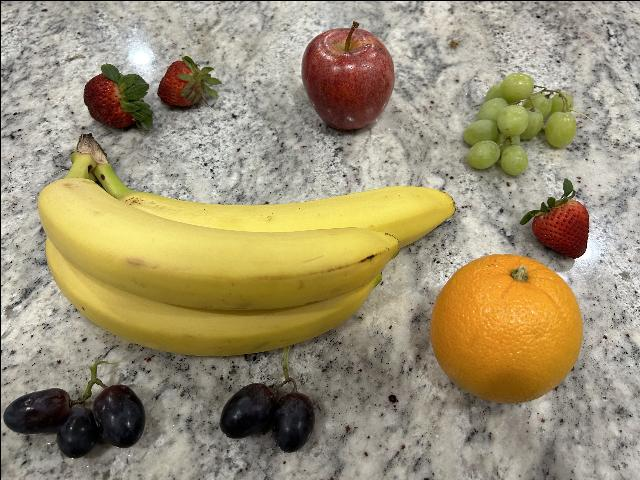Apples: (299, 20, 393, 132)
Bananas: (34, 130, 452, 356)
Grapes: (2, 360, 148, 460), (460, 70, 578, 174), (218, 363, 316, 455)
Oranges: (428, 255, 580, 404)
Strawberries: (515, 176, 591, 258), (80, 64, 152, 130), (156, 56, 220, 112)
